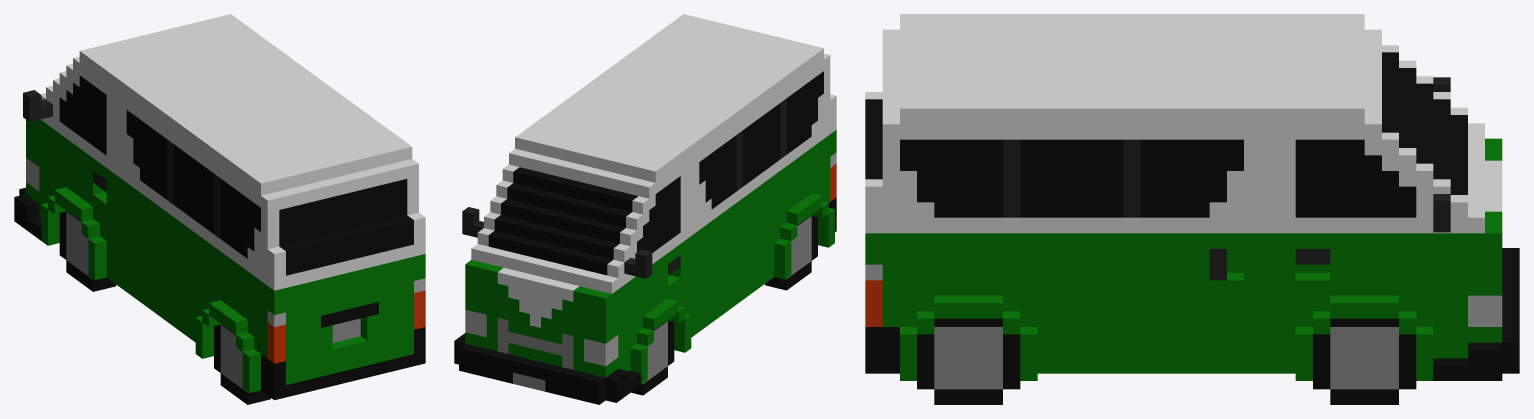
The model's file is combi.fbx.
3 views of the same model, side by side, from view 1: azimuth 30°, elevation 25°; view 2: azimuth 150°, elevation 25°; view 3: azimuth 270°, elevation 25° (orthographic). The views are drawn at different scales.
Visible parts, largest first — view 1: Cubo.4167; view 2: Cubo.4167; view 3: Cubo.4167.
Part boxes in pixels (bbox=[...]): Cubo.4167: bbox=[14, 14, 425, 404]; Cubo.4167: bbox=[454, 14, 836, 404]; Cubo.4167: bbox=[865, 14, 1519, 404].
Size of the model in its own units: 1700 by 1900 by 3800.
